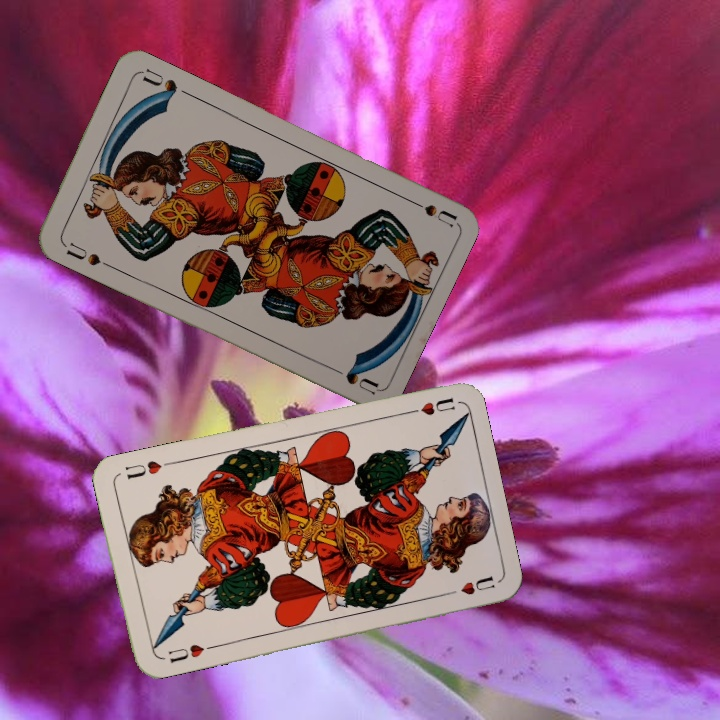HU: (400, 393, 457, 418), (164, 640, 207, 666)
SU: (400, 193, 458, 229), (58, 237, 113, 270)
